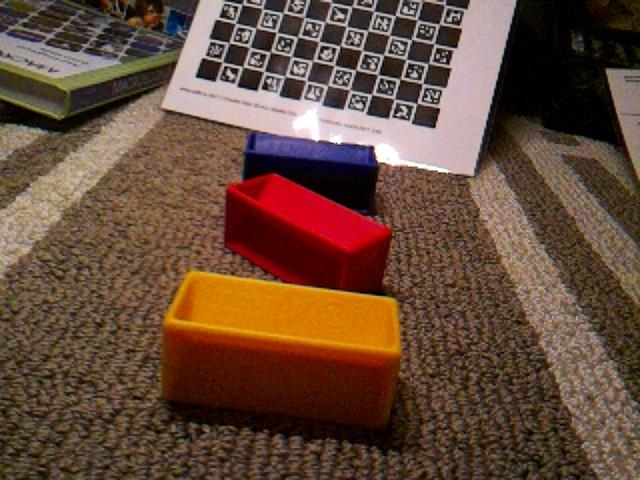blue: (241, 130, 381, 215)
red: (222, 171, 394, 293)
yellow: (160, 269, 403, 432)
